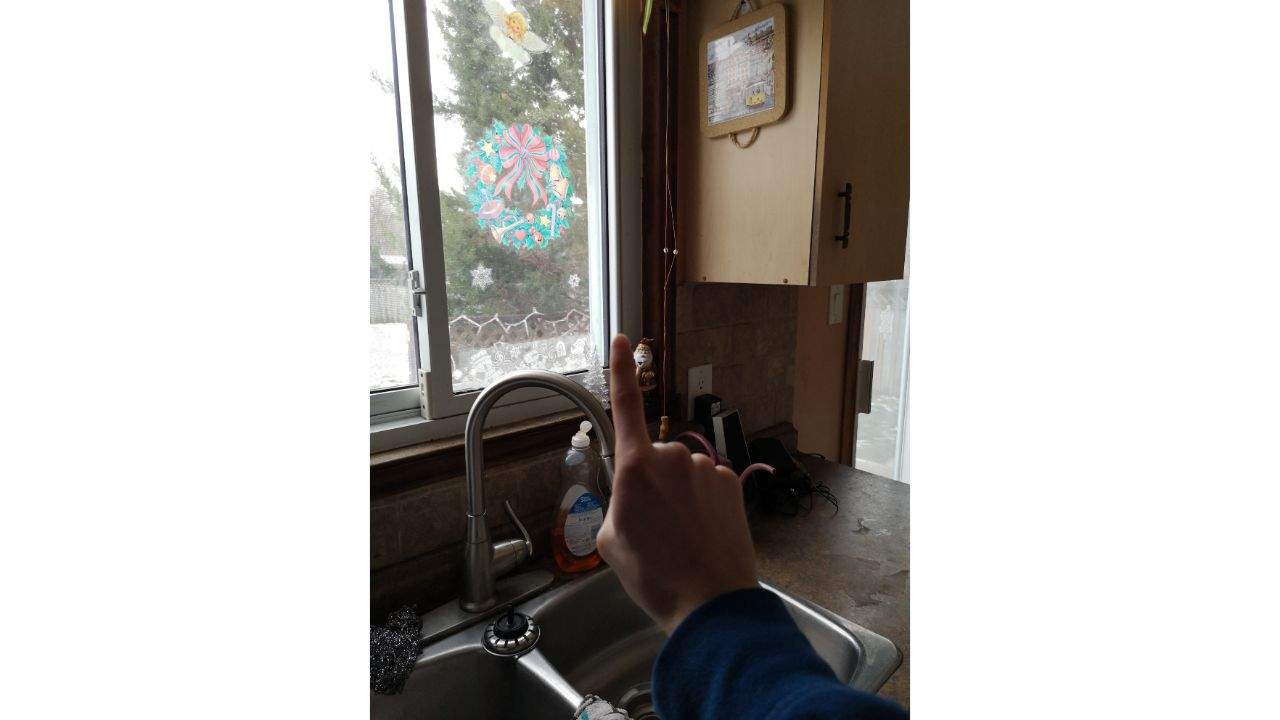finger: (575, 304, 825, 693)
